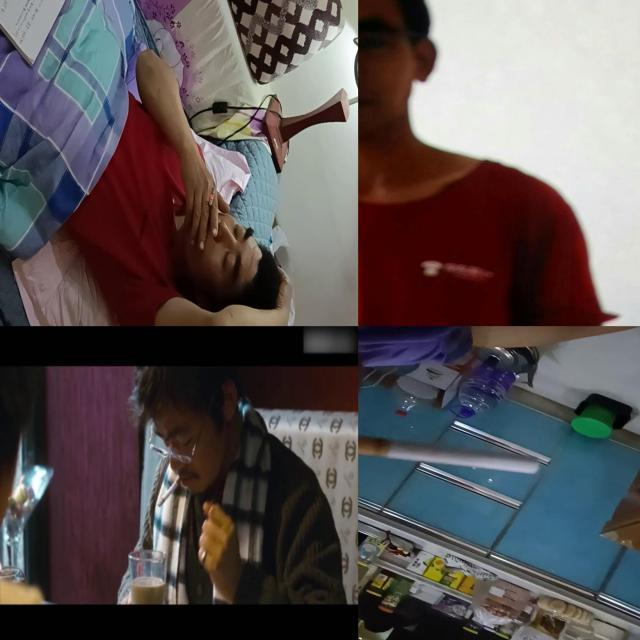cigarette: (358, 436, 540, 474), (156, 474, 183, 508), (208, 187, 215, 212)
